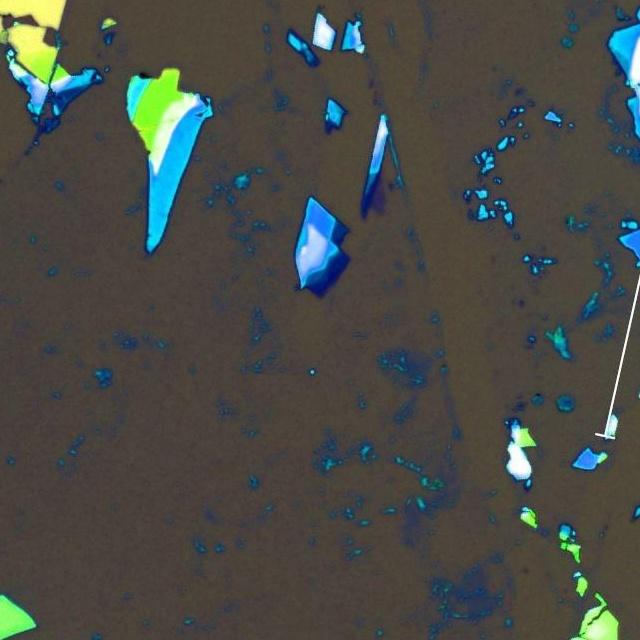monolayer-eWW4: (367, 177, 388, 215)
